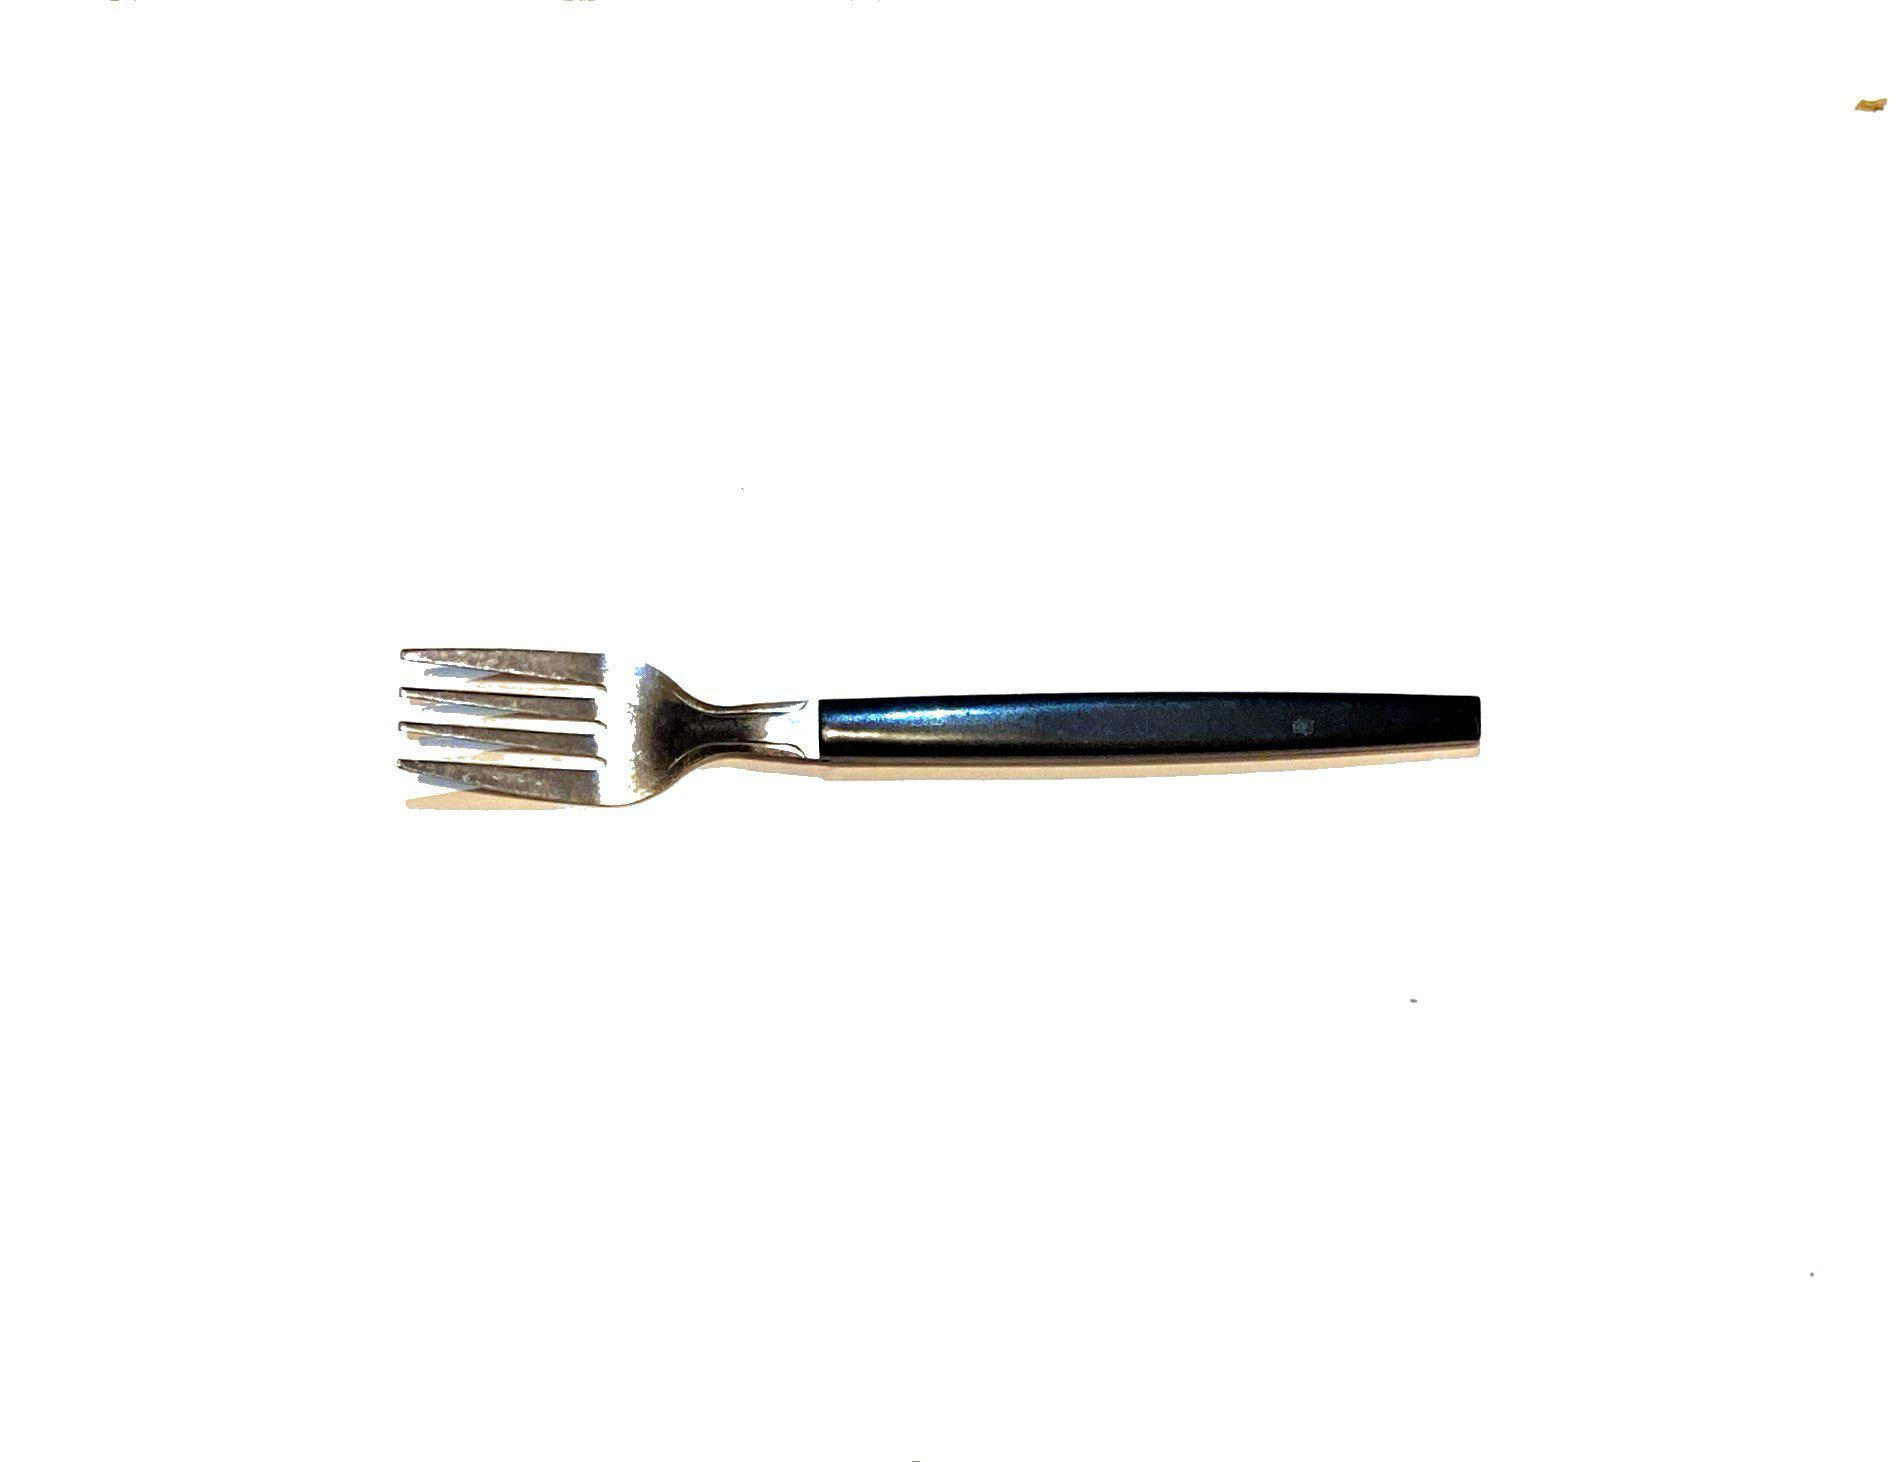Fork: (362, 584, 1575, 977)
